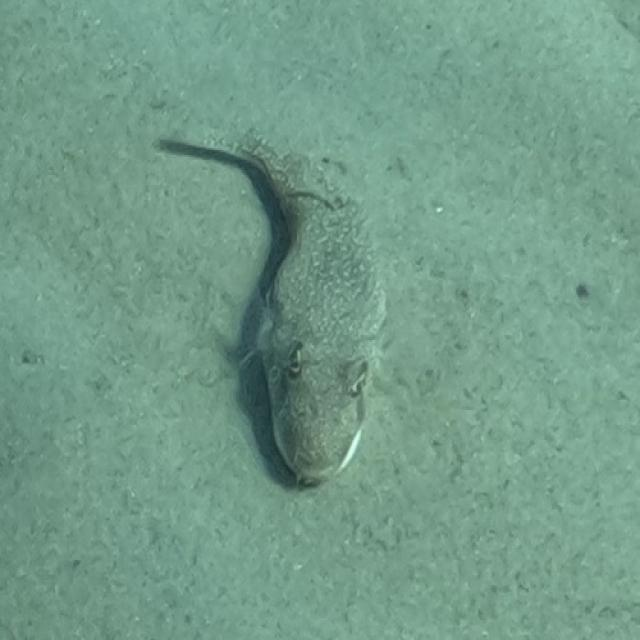Balik: (161, 140, 385, 483)
